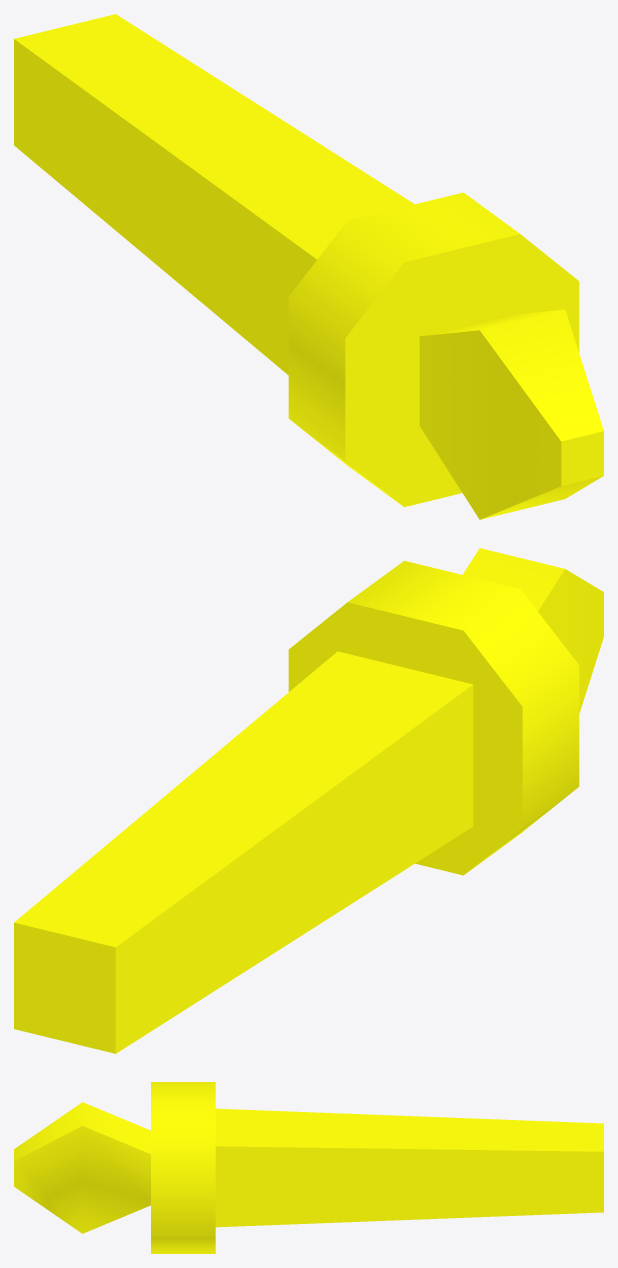
File: _fbx_all_weapon-arrow.glb
3 renders of one model, top to bottom at view 1: azimuth 30°, elevation 25°; view 2: azimuth 150°, elevation 25°; view 3: azimuth 270°, elevation 25°, orthographic. The views are drawn at different scales.
Parts seen in each view (by area): view 1: weapon-arrow; view 2: weapon-arrow; view 3: weapon-arrow.
Part boxes in pixels (x1,y1,x2,y2): weapon-arrow: (14, 14, 603, 519); weapon-arrow: (14, 548, 603, 1053); weapon-arrow: (14, 1082, 603, 1253).
Size of the model in its own units: 0.119 by 0.119 by 0.4559.
1 material, 1 textured.
